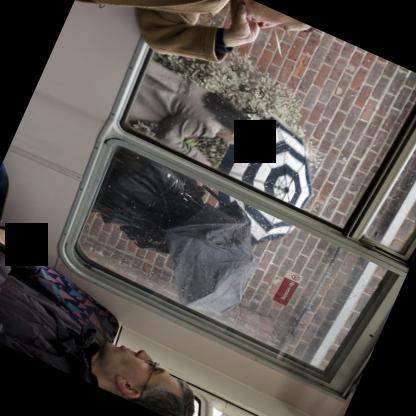handbag: (102, 151, 203, 227)
